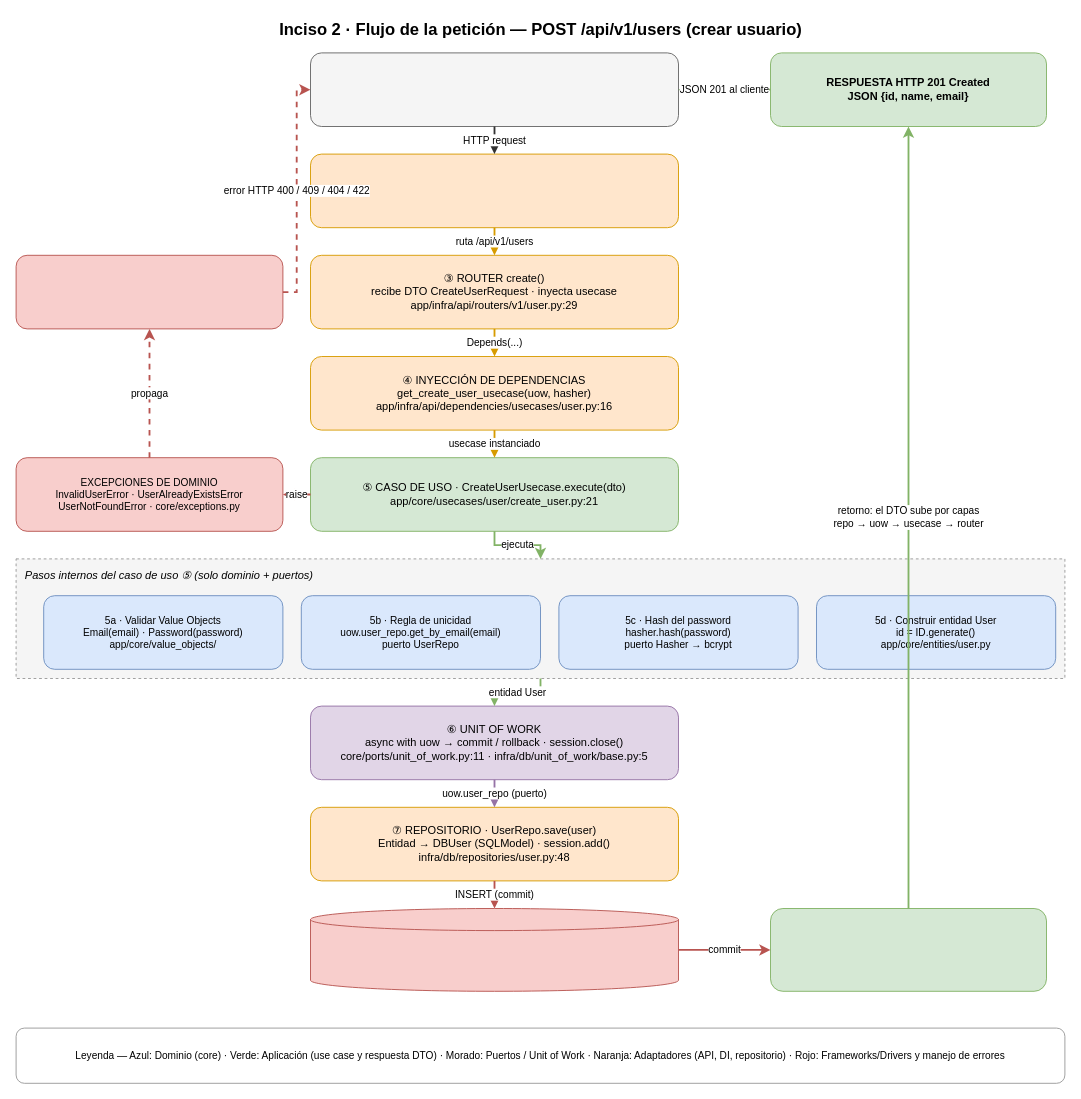
Image size: 1081x1099. Some labels were removed from this diagram. The shapes that lost their labels are listed below. From the top down, each one's centre as x and y in pixels, then its label:
point (494, 89): ① CLIENTE HTTP POST /api/v1/users · JSON {name, email, password}
point (494, 190): ② APP FASTAPI create_app() → include_router(/api/v1) app/infra/api/app.py:31
point (149, 291): MANEJO EN ROUTER HTTPException → 400 · 409 · 404 · 422 routers/v1/user.py:32-52
point (494, 949): ⑧ POSTGRESQL INSERT users (al commit)
point (908, 949): COMMIT ✓ UserResponse DTO {id, name, email} — sin hash
